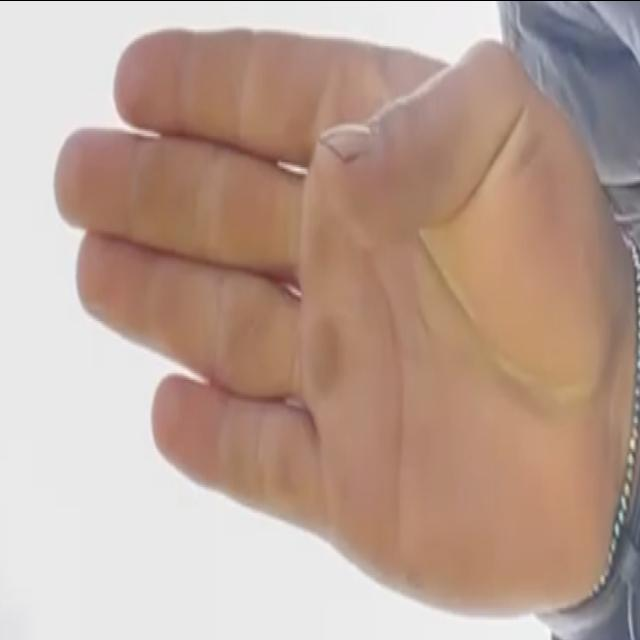B: (43, 19, 613, 624)
